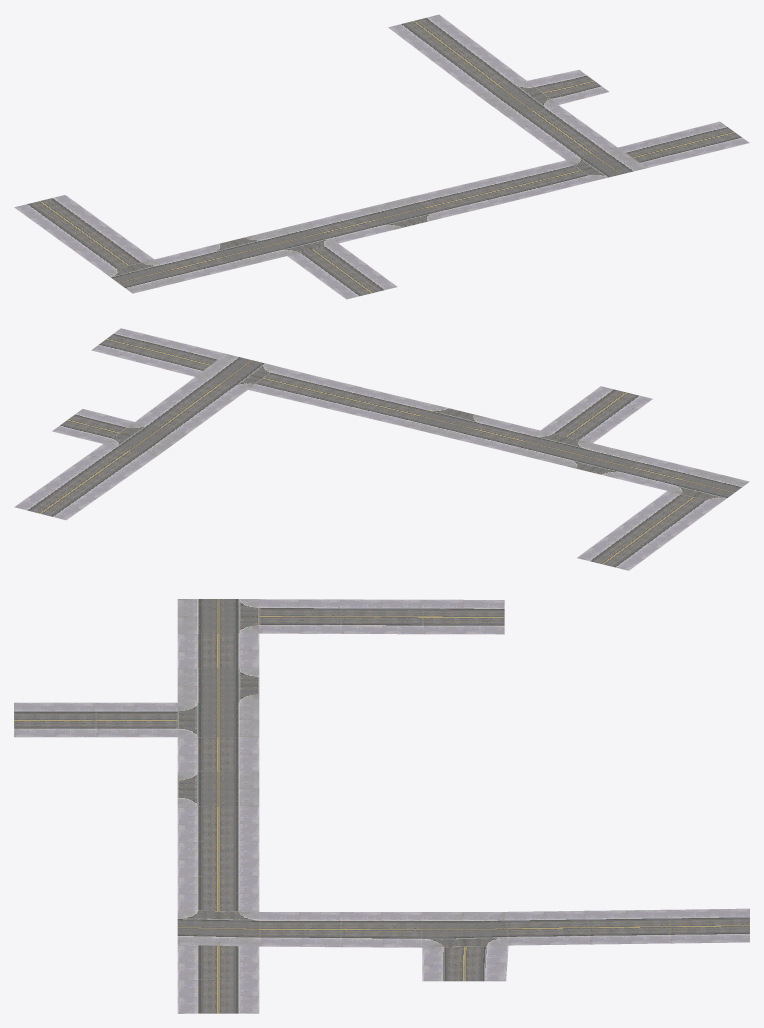
The model's file is lodaseroad094.obj.
The picture shows the model from 3 angles, top to bottom: view 1: azimuth 30°, elevation 25°; view 2: azimuth 150°, elevation 25°; view 3: azimuth 270°, elevation 25°; orthographic projection. The views are drawn at different scales.
Visible parts, largest first — view 1: lodasEroad094; view 2: lodasEroad094; view 3: lodasEroad094.
Boxes of the visible parts, box(x1,y1,x2,y2) form: lodasEroad094: box(14, 14, 749, 299); lodasEroad094: box(14, 328, 749, 570); lodasEroad094: box(14, 599, 749, 1013).
Size of the model in its own units: 240 by 1.35 by 180.
2 materials, 2 textured.
